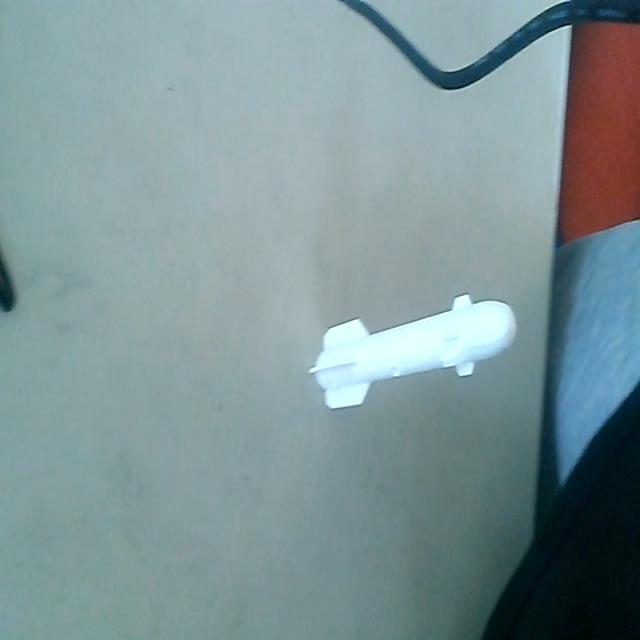Rocket: (308, 290, 522, 412)
